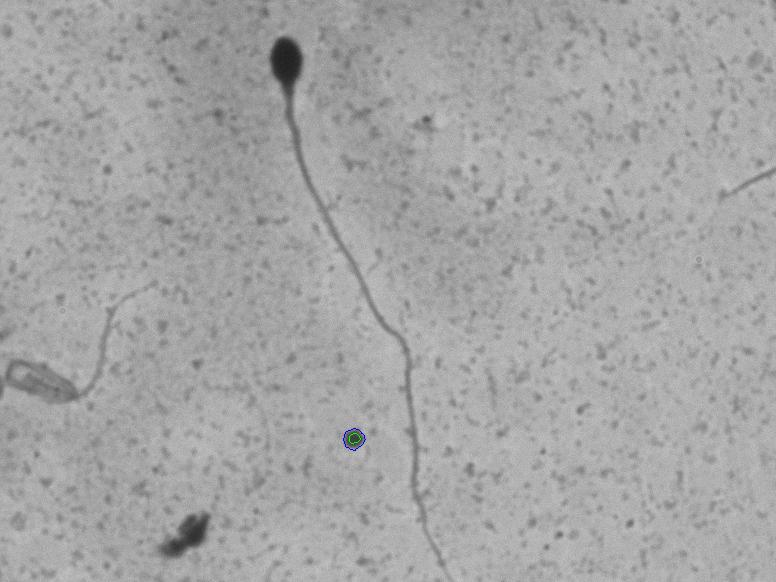Abnormal: (235, 27, 432, 558)
